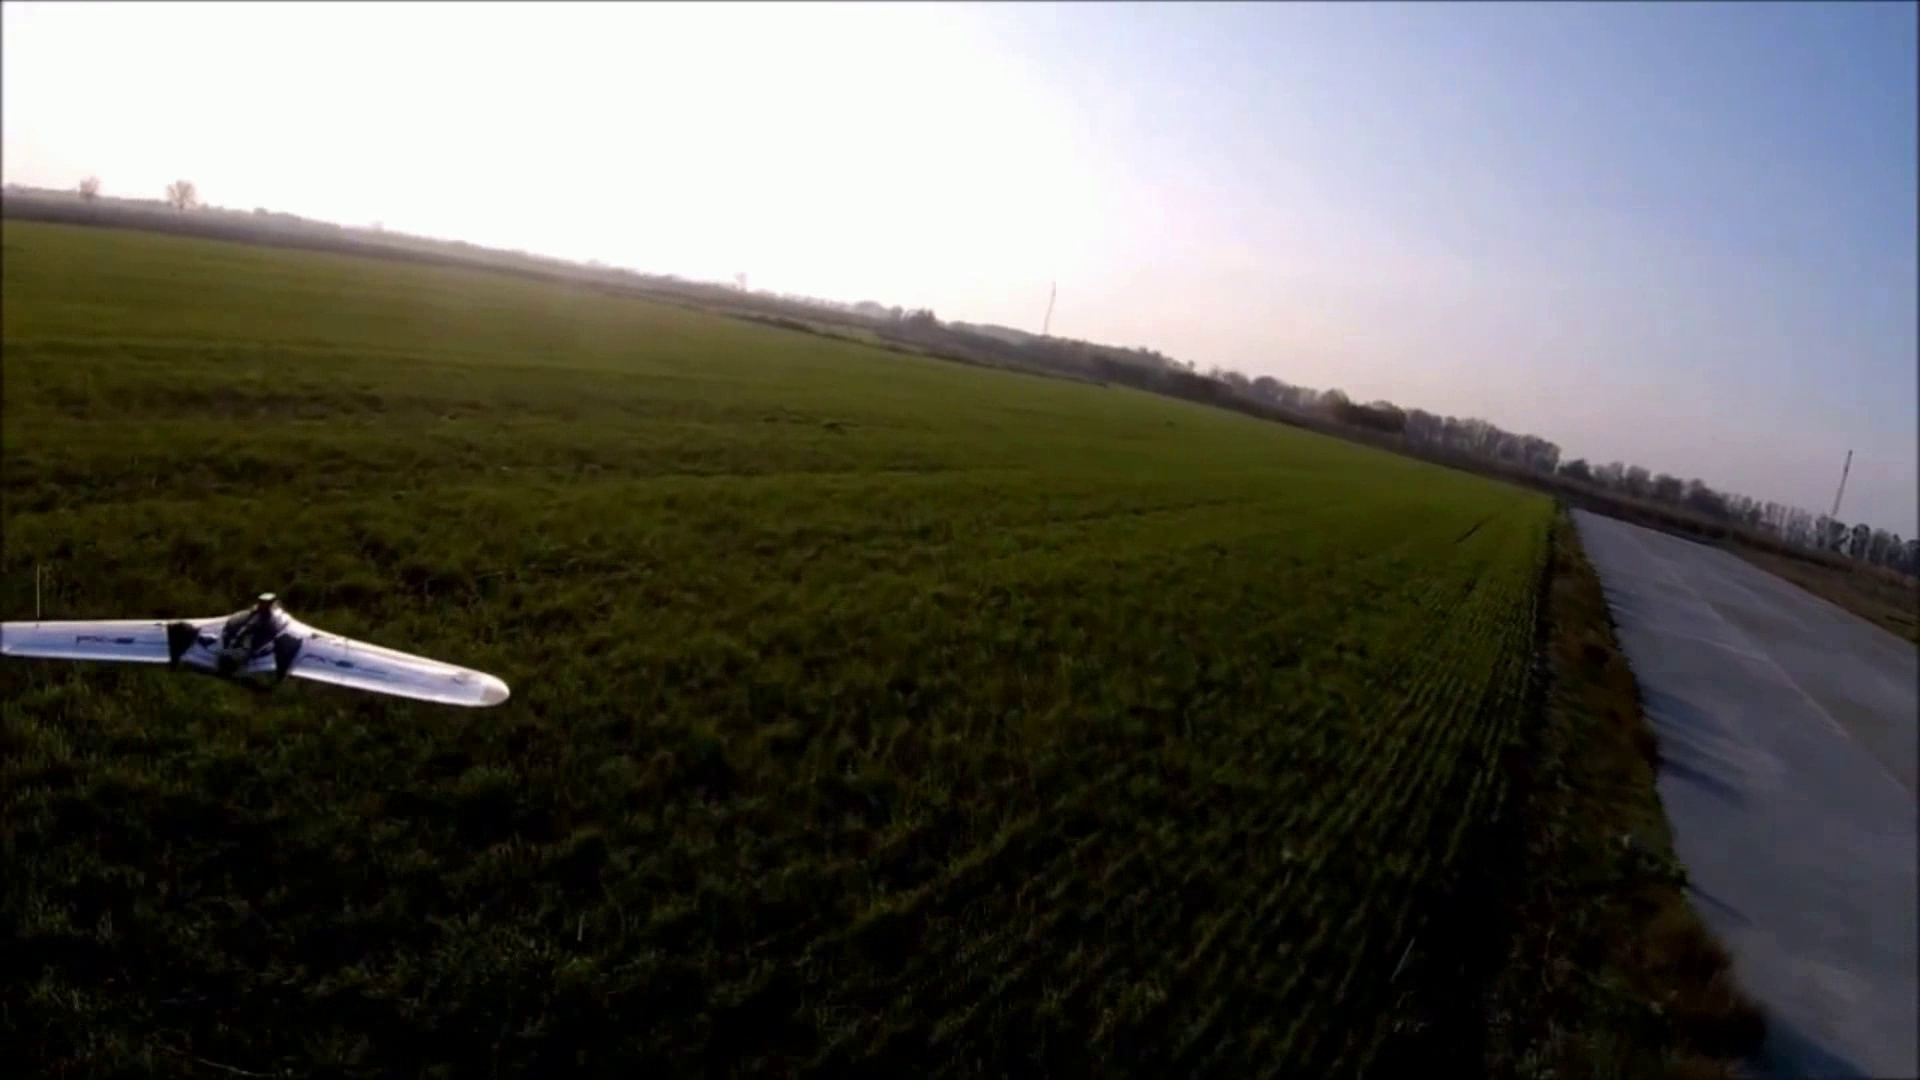airplane: (0, 593, 510, 713)
